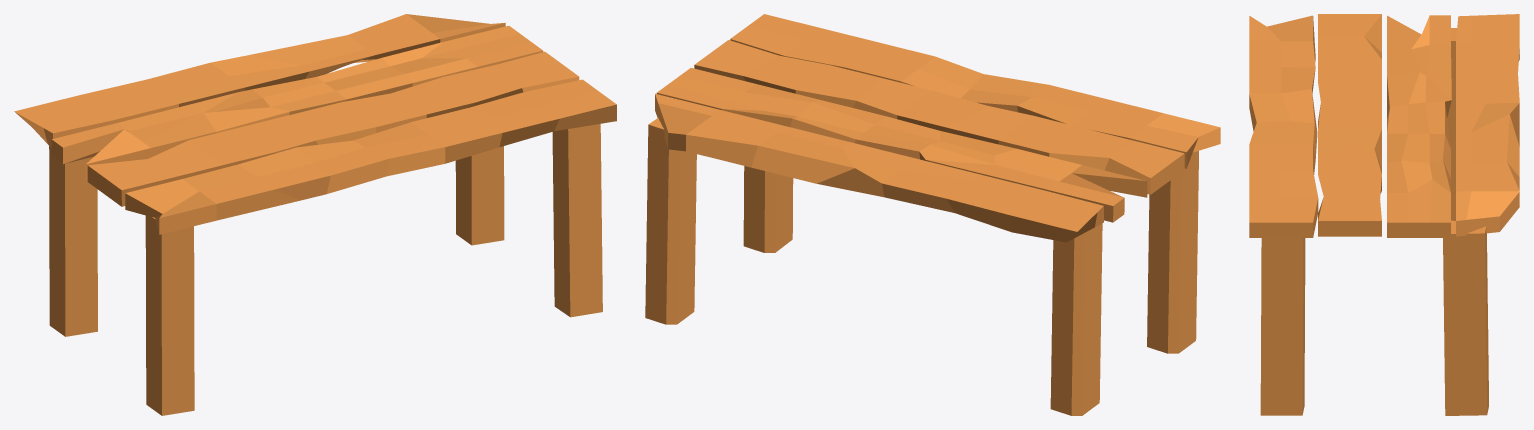
The model's file is Crafting Table.glb.
The picture shows the model from 3 angles, left to right: view 1: azimuth 30°, elevation 25°; view 2: azimuth 150°, elevation 25°; view 3: azimuth 270°, elevation 25°; orthographic projection. The views are drawn at different scales.
Visible parts, largest first — view 1: Cube; view 2: Cube; view 3: Cube.
Part boxes in pixels (box(x1,y1,x2,y2)): Cube: box(14, 14, 616, 415); Cube: box(645, 14, 1220, 415); Cube: box(1249, 14, 1519, 415).
Bounding box in the file's own units: 5.75 × 2.61 × 3.14.
